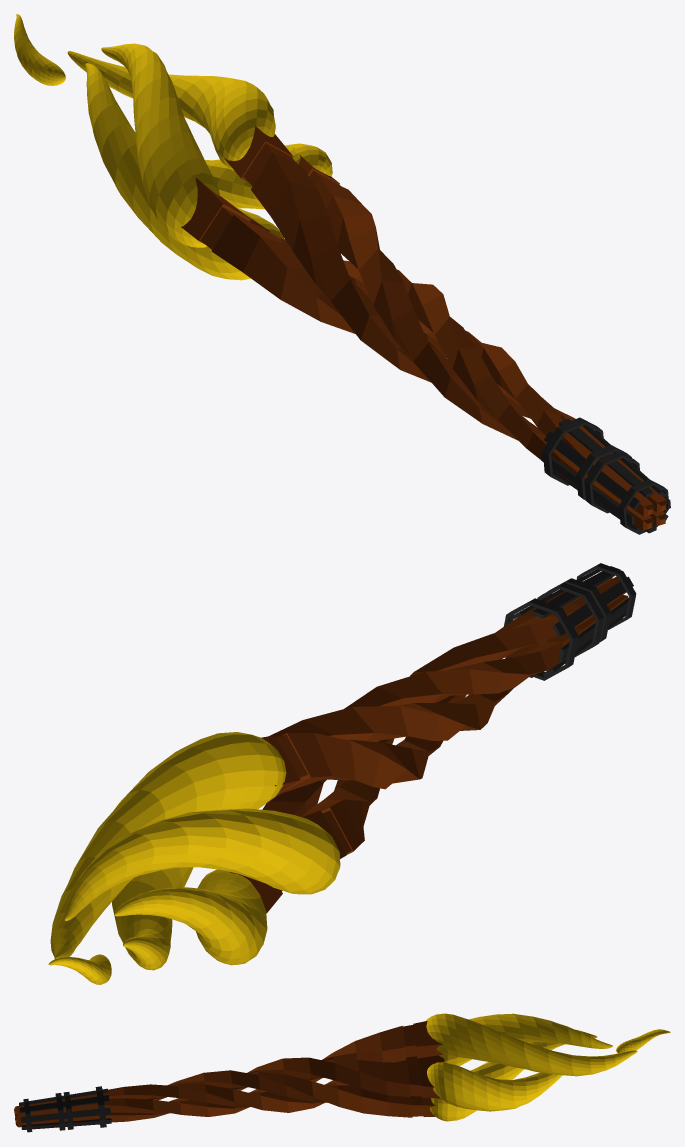
Rendered from torch.fbx.
The picture shows the model from 3 angles, top to bottom: view 1: azimuth 30°, elevation 25°; view 2: azimuth 150°, elevation 25°; view 3: azimuth 270°, elevation 25°; orthographic projection. The views are drawn at different scales.
Visible parts, largest first — view 1: imagetostl_mesh0, imagetostl_mesh2, imagetostl_mesh1; view 2: imagetostl_mesh2, imagetostl_mesh0, imagetostl_mesh1; view 3: imagetostl_mesh0, imagetostl_mesh2, imagetostl_mesh1.
Boxes of the visible parts, left/top/right/bottom form: imagetostl_mesh0: left=181, top=126, right=666, bottom=530; imagetostl_mesh2: left=14, top=14, right=332, bottom=280; imagetostl_mesh1: left=540, top=417, right=670, bottom=534; imagetostl_mesh2: left=48, top=732, right=340, bottom=984; imagetostl_mesh0: left=229, top=576, right=628, bottom=913; imagetostl_mesh1: left=504, top=563, right=636, bottom=680; imagetostl_mesh0: left=14, top=1021, right=445, bottom=1127; imagetostl_mesh2: left=425, top=1013, right=670, bottom=1121; imagetostl_mesh1: left=19, top=1086, right=111, bottom=1132.
Bounding box in the file's own units: 403 × 400 × 2250.
